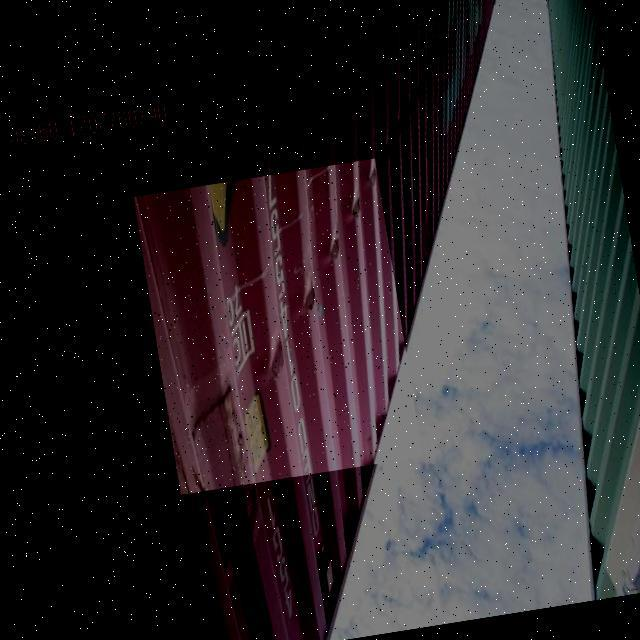Dent: (134, 158, 423, 495)
